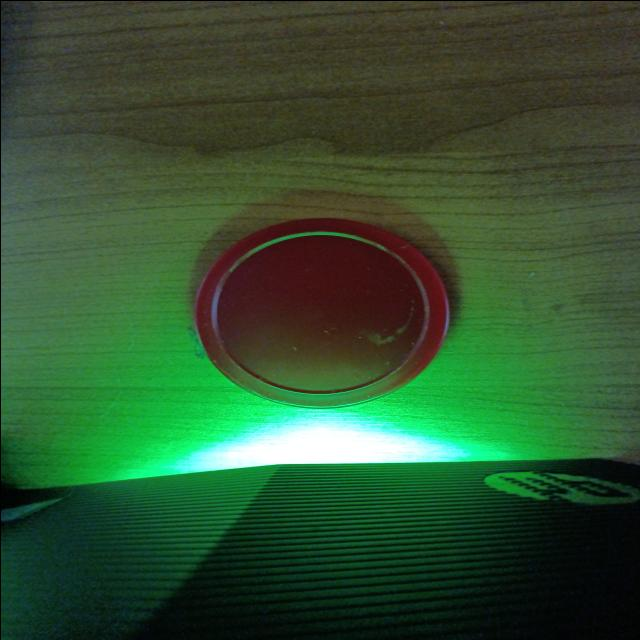chip: (186, 210, 456, 410)
